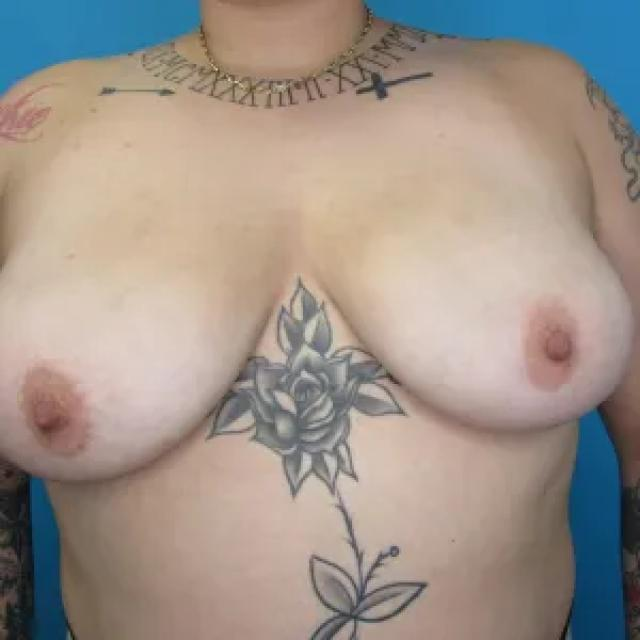Seno ileso: (0, 155, 295, 508), (308, 155, 636, 455)
